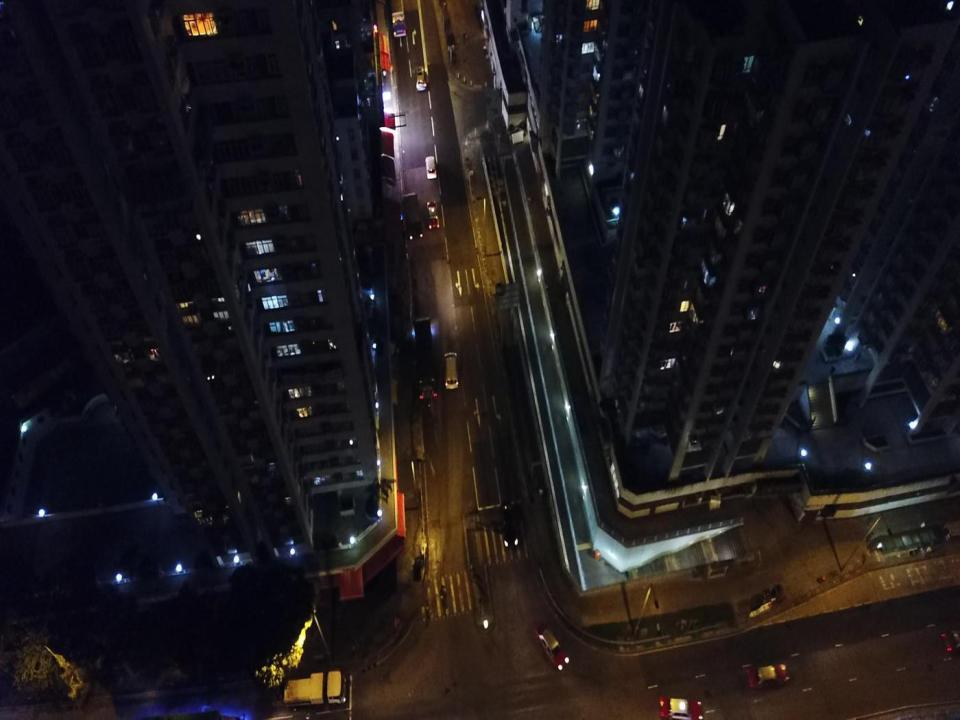car: (534, 620, 570, 670), (745, 662, 790, 690), (658, 695, 705, 719), (500, 503, 521, 549), (443, 351, 459, 390), (413, 65, 428, 91), (426, 200, 439, 229), (424, 154, 437, 180)
truck: (272, 669, 347, 708), (411, 317, 439, 399), (402, 192, 424, 239), (385, 0, 405, 38)
